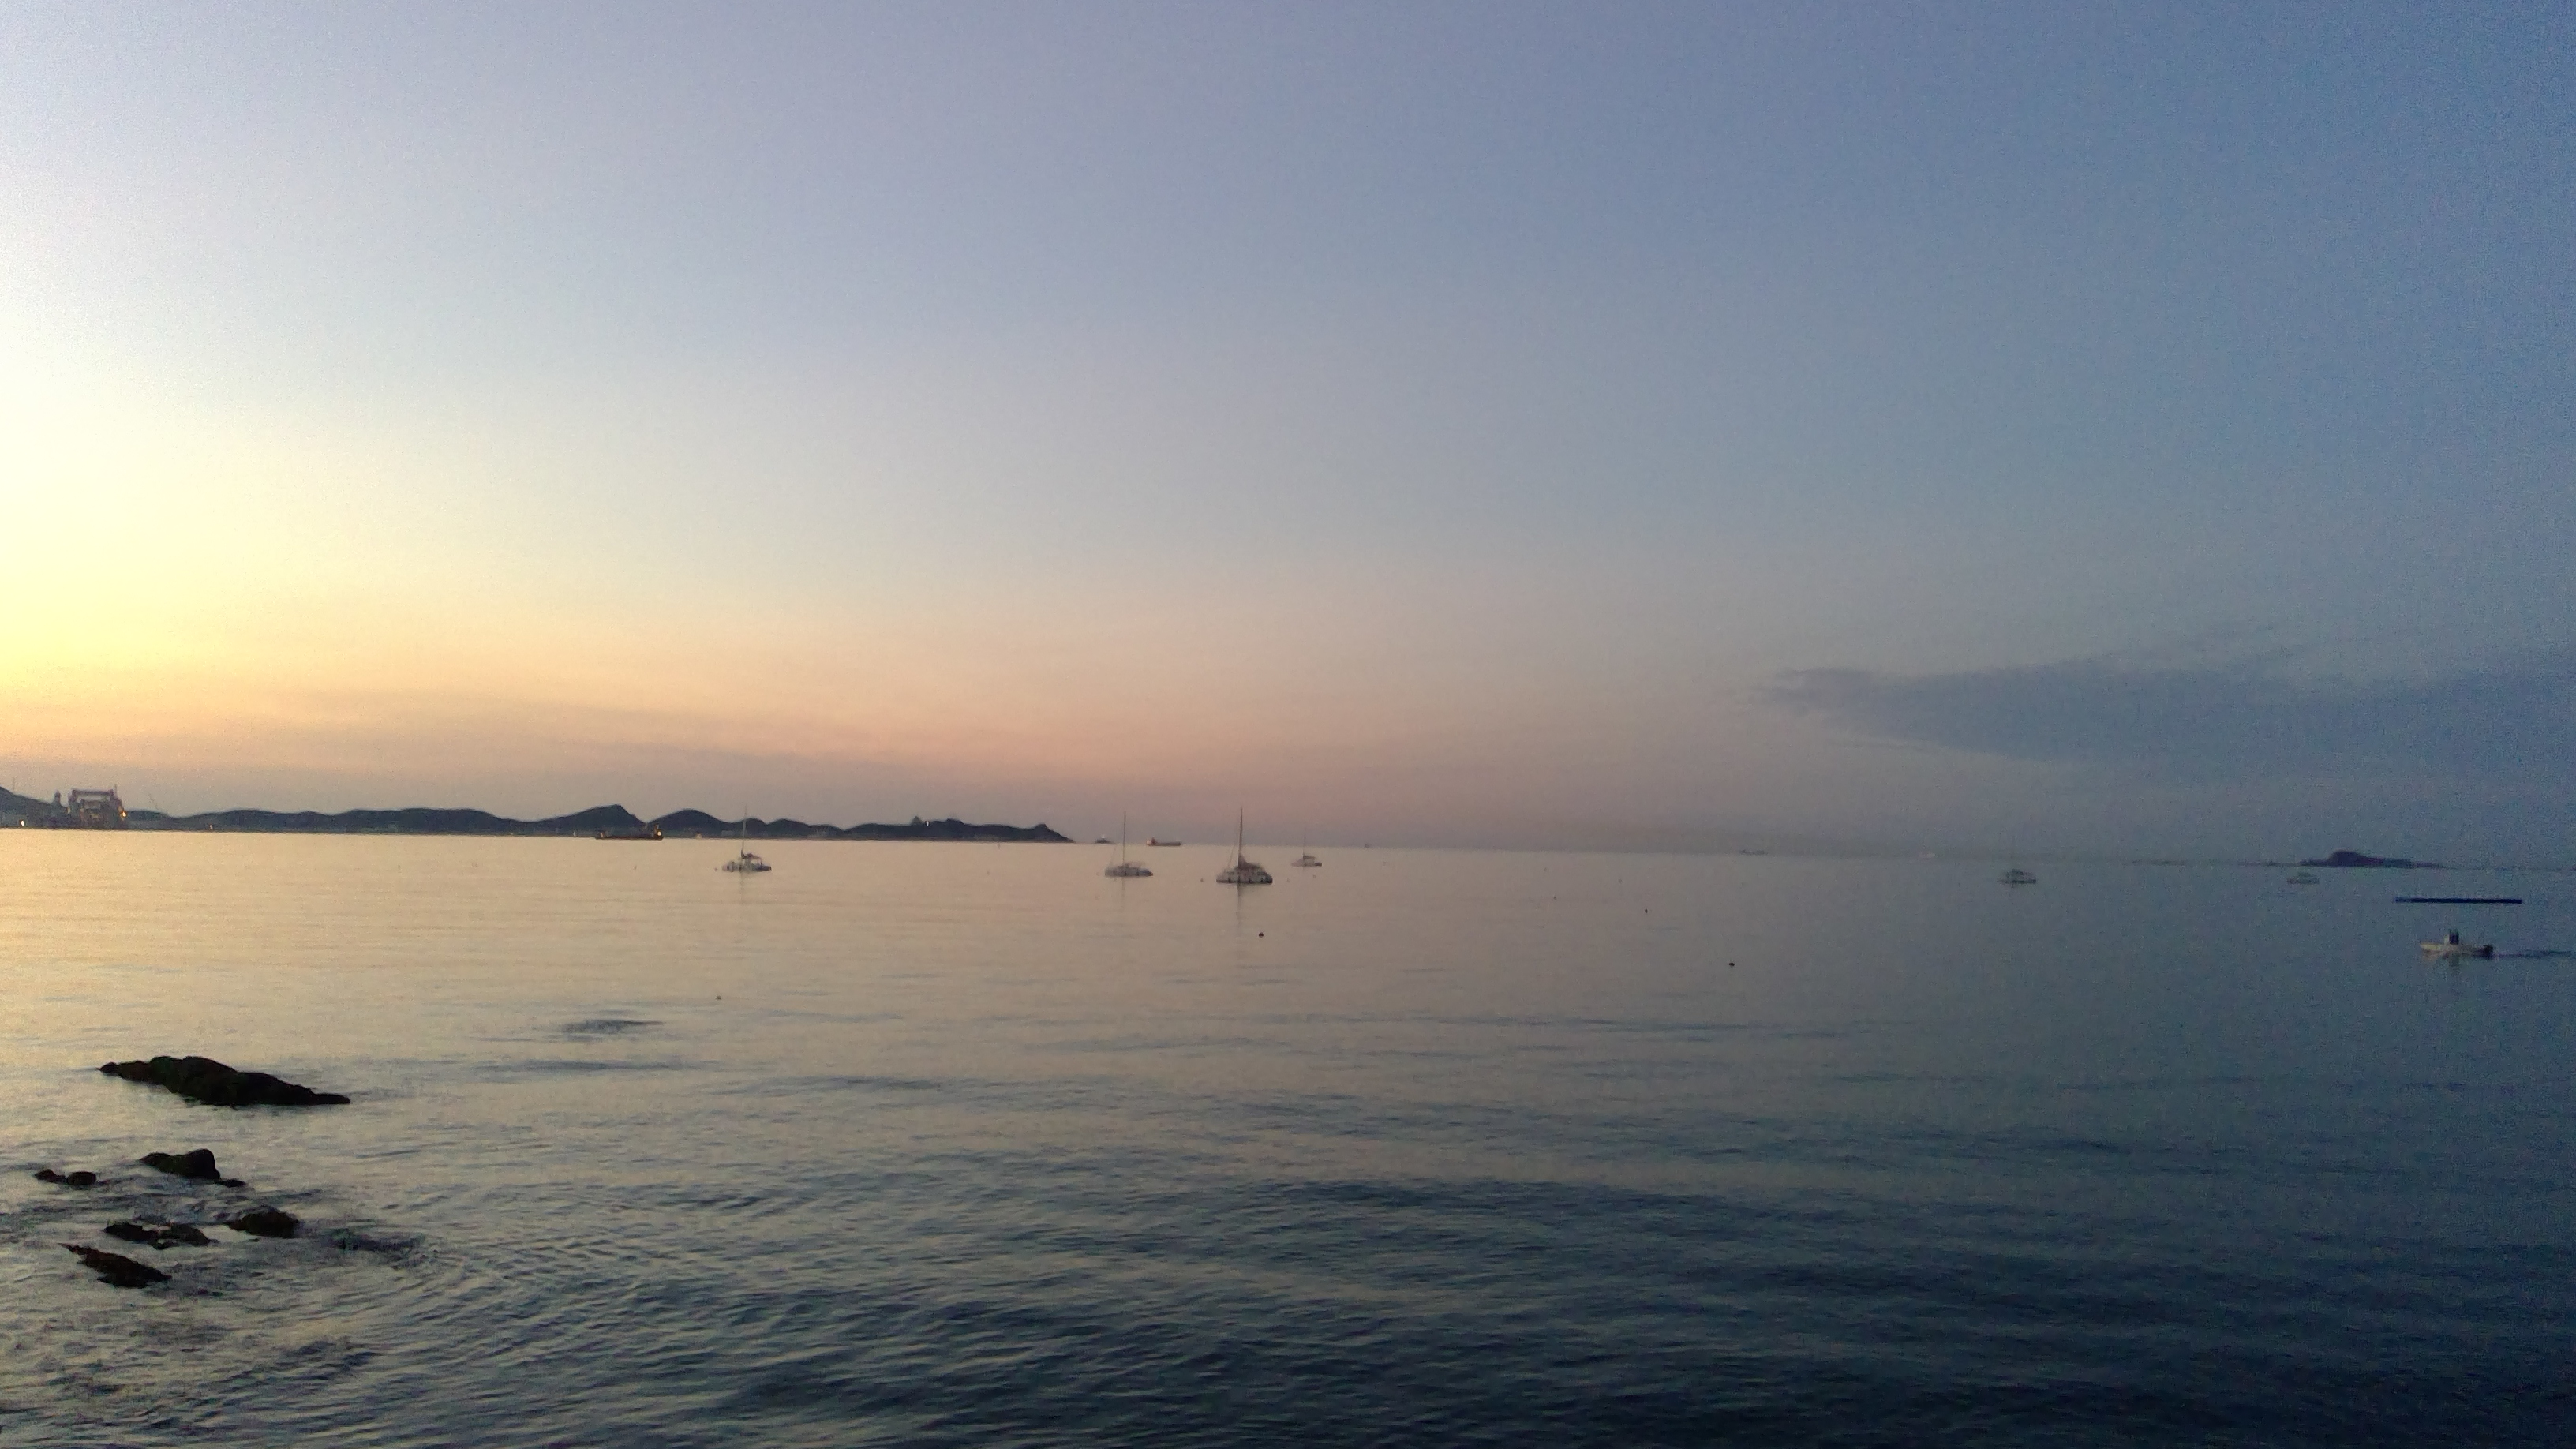boat: (1092, 800, 1157, 888), (1215, 794, 1270, 899), (2415, 920, 2502, 978), (709, 826, 787, 881)
rock: (80, 1023, 366, 1122), (60, 1233, 193, 1307), (124, 1129, 257, 1196), (219, 1184, 320, 1258), (96, 1200, 219, 1246), (28, 1152, 124, 1201)
